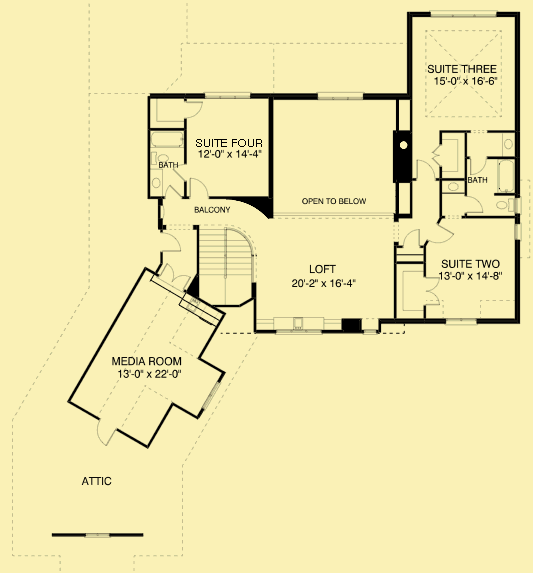door: (160, 264, 193, 291), (95, 415, 117, 447), (415, 155, 438, 182), (181, 100, 208, 122), (425, 275, 442, 309), (159, 229, 182, 254), (429, 224, 457, 244), (402, 225, 422, 250), (465, 193, 486, 215), (186, 176, 208, 197), (469, 154, 487, 175)
large_sink: (495, 196, 518, 214), (150, 150, 171, 167)
small_sink: (150, 167, 165, 200), (500, 130, 516, 158), (439, 181, 465, 196)
stairs: (198, 224, 257, 282)
tub: (493, 157, 516, 193), (150, 130, 184, 148)
window: (427, 6, 497, 20), (204, 88, 252, 101), (314, 90, 366, 101), (273, 328, 322, 335), (444, 316, 478, 324)
